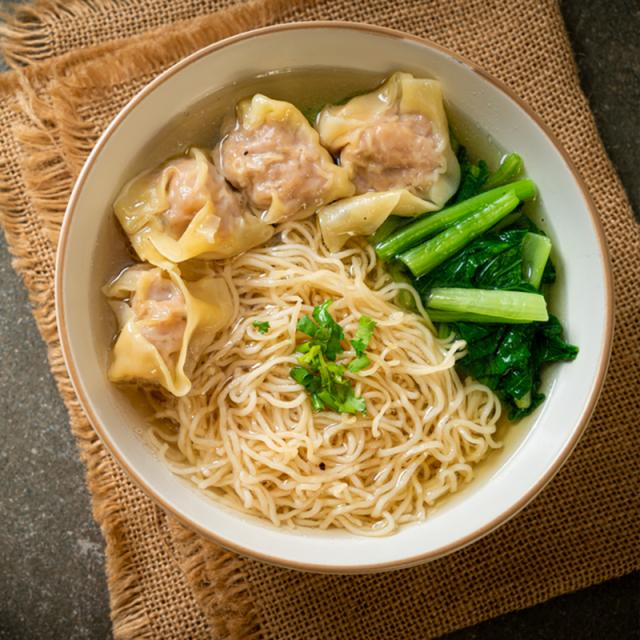Carbohydrate: (148, 227, 492, 549)
Noodle: (66, 21, 618, 570)
Protein: (108, 82, 455, 390)
Vegetable: (380, 153, 580, 413), (282, 305, 378, 416)
